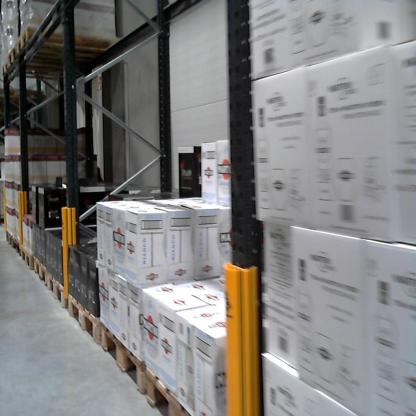pallet: (14, 25, 114, 68), (101, 323, 147, 397), (144, 366, 208, 415), (1, 59, 106, 88), (7, 44, 116, 70), (68, 288, 104, 344), (47, 267, 69, 310), (34, 254, 50, 286), (21, 244, 36, 269), (4, 230, 14, 248), (13, 236, 22, 255)
